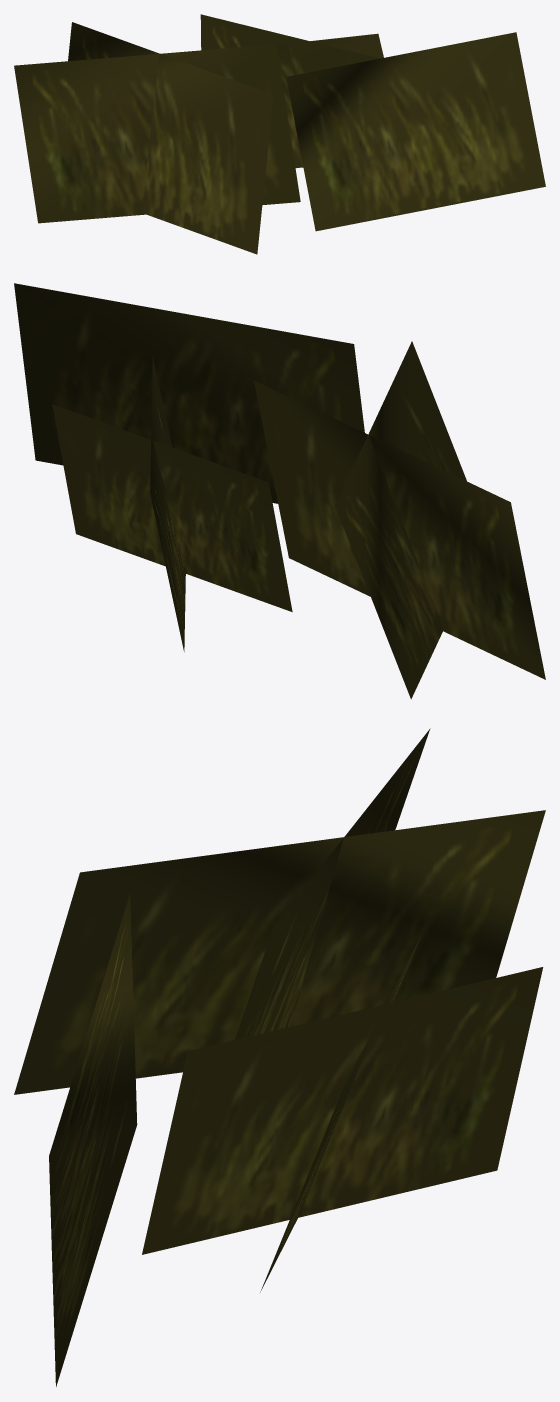
Rendered from yz_cao1.fbx.
The picture shows the model from 3 angles, top to bottom: view 1: azimuth 30°, elevation 25°; view 2: azimuth 150°, elevation 25°; view 3: azimuth 270°, elevation 25°; orthographic projection. The views are drawn at different scales.
Visible parts, largest first — view 1: yz_cao1; view 2: yz_cao1; view 3: yz_cao1.
Part boxes in pixels (x1,y1,x2,y2): yz_cao1: (14,14,545,254); yz_cao1: (14,283,545,699); yz_cao1: (14,728,545,1386).
Size of the model in its own units: 697 by 238 by 408.
